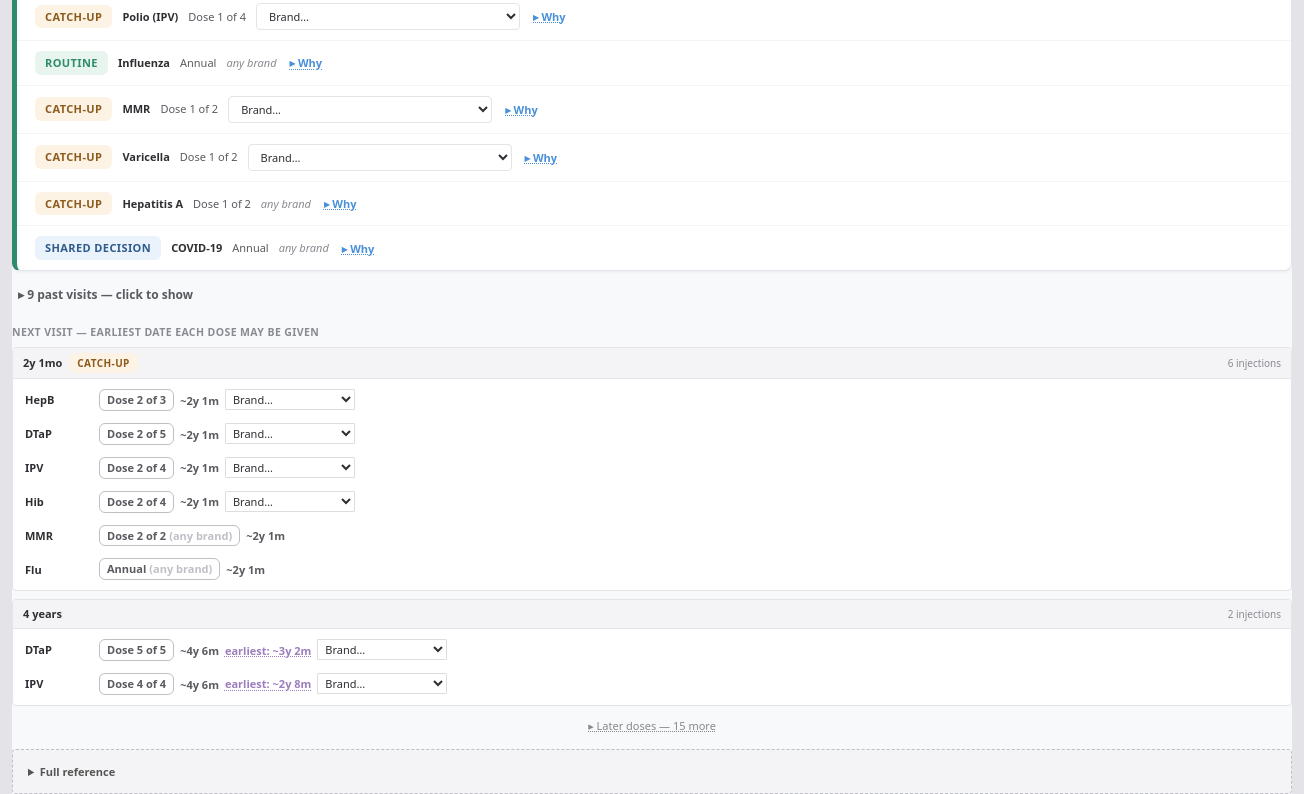
ForecastTab — standalone scheduled-early card brand picker › moved DTaP D5 to 3y 2mo: standalone card shows "any brand" once combos age out (D4)
This screenshot has width=1304, height=794.
(page scrolled)
Click the button with class "fct-show-full-btn" at (652, 725), box [580,714,724,737]
(page scrolled)
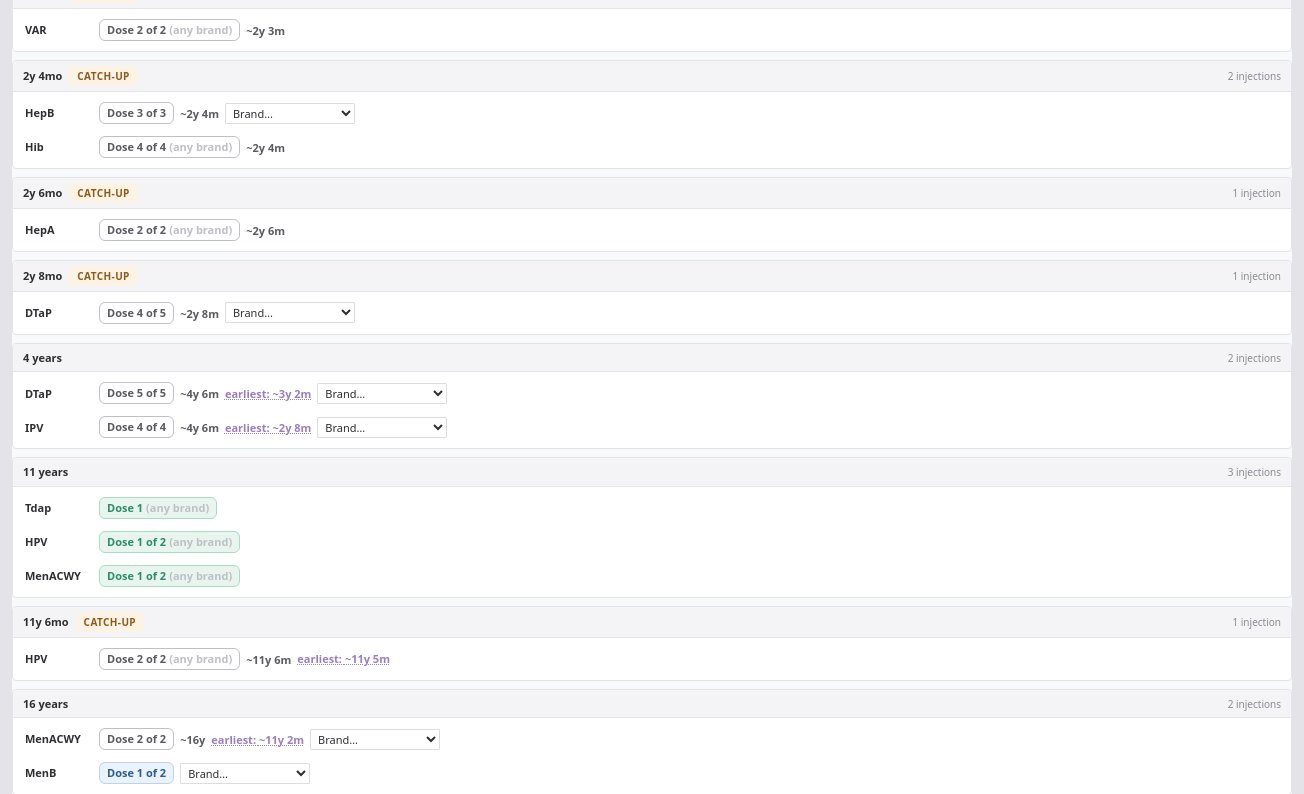
Click the button with class "fc-earliest-btn" showing "earliest: ~3y 2m" at (268, 394), box [225,387,311,402]
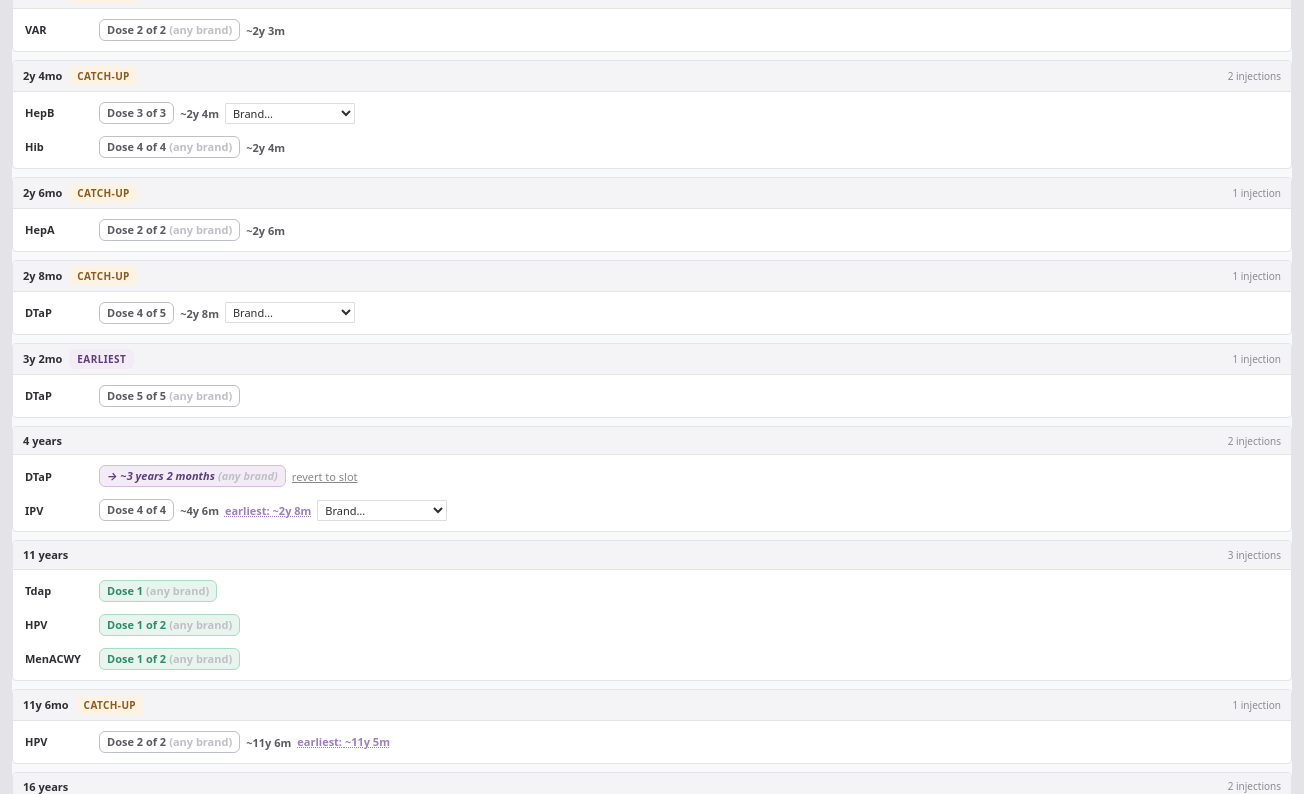
expect the element showing "3y 2mo earliest 1 injection DTaP Dose 5 of 5(any brand)" is shown: met, box [12,343,1292,418]
expect the element showing "DTaP Dose 5 of 5(any brand)" is shown: met, box [25,385,240,407]
